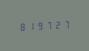eight: (17, 21, 25, 31)
nine: (36, 20, 44, 31)
one: (26, 20, 34, 31)
seven: (45, 19, 53, 30), (63, 19, 71, 29)
two: (54, 19, 62, 30)
